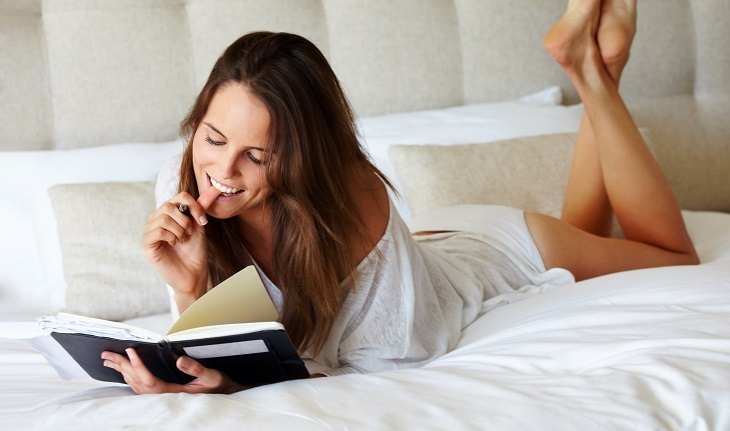Humano: (101, 2, 705, 399)
